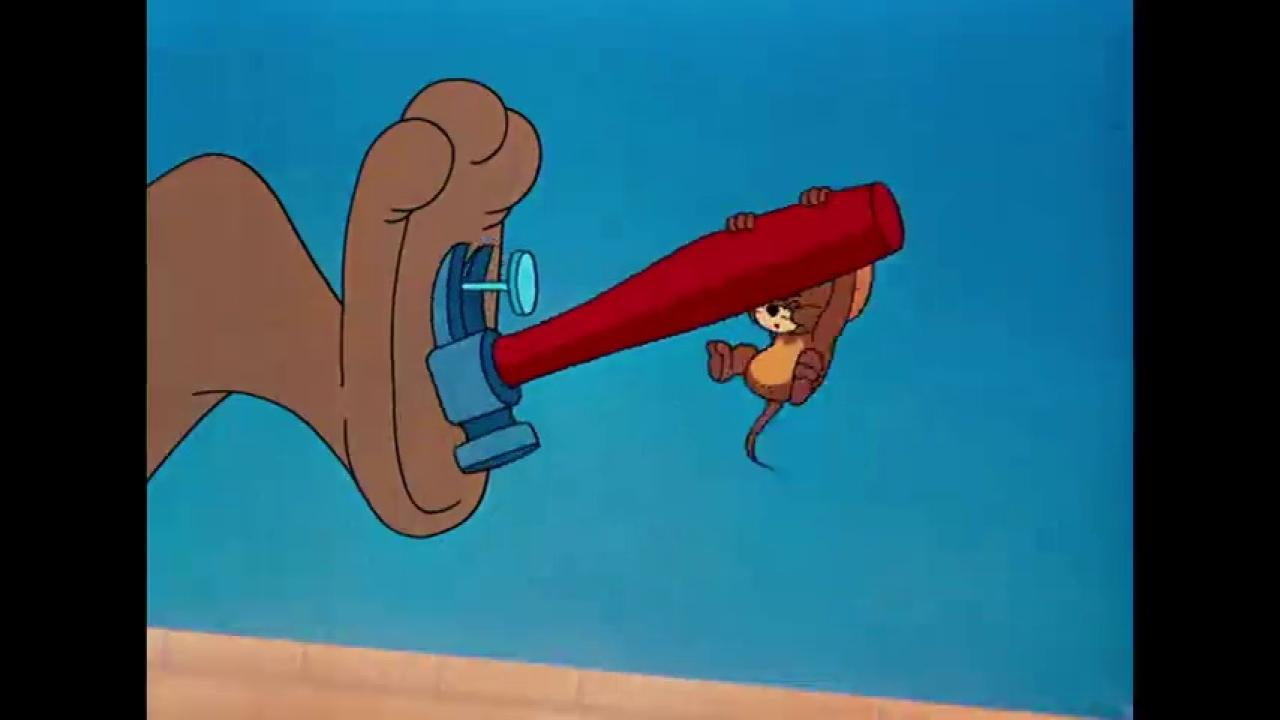Jerry: (706, 184, 879, 473)
